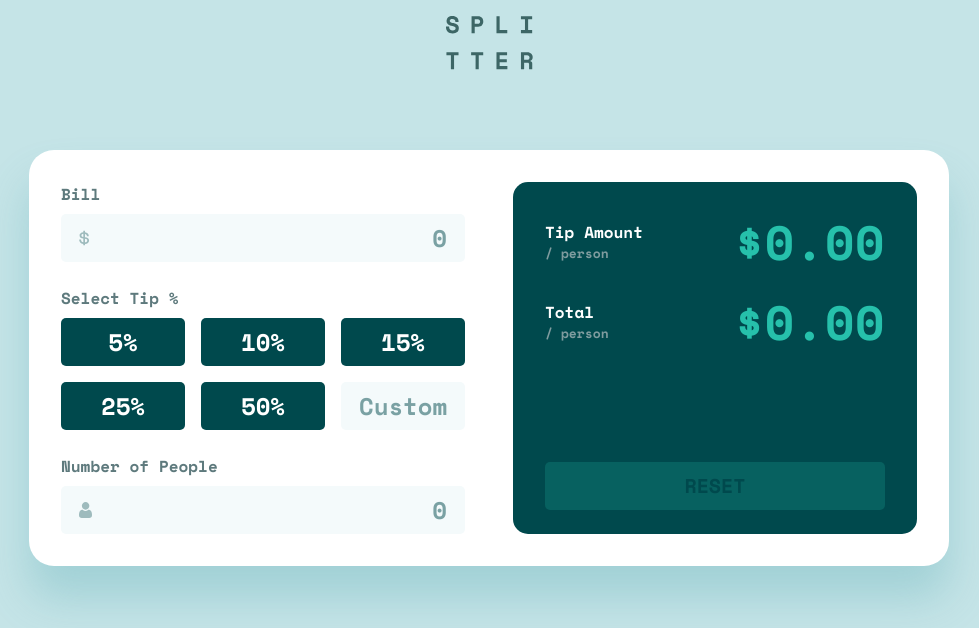
Test case: Tipcalculator component › calculates tip amount and total correctly for standard percentage
This screenshot has width=979, height=628.
Type "142.55" into the number field labelled "Bill".
click(268, 238); type("142.55")  # box [90,220,447,256]
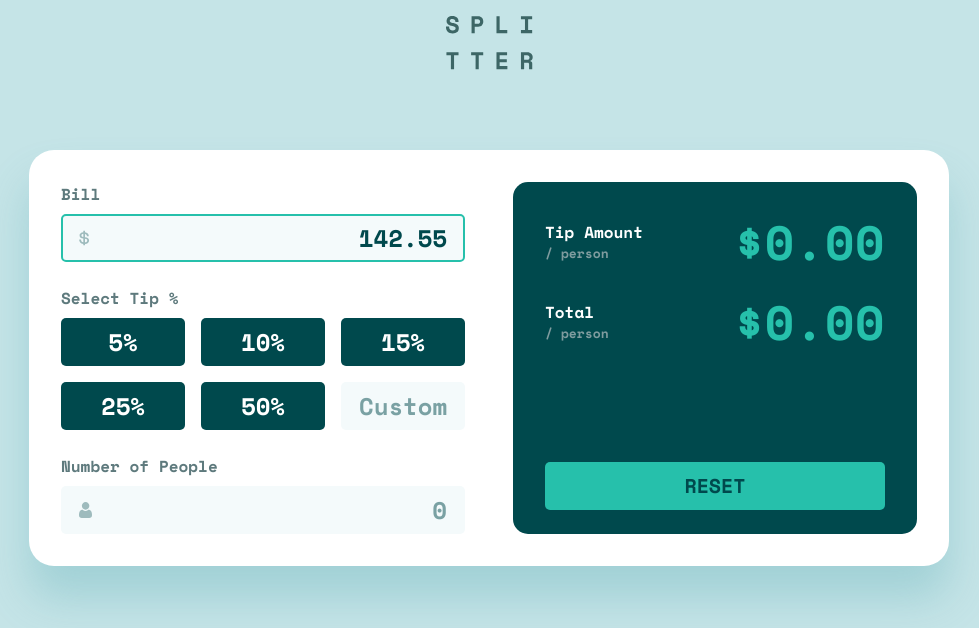
Click the radio button with class "tip-radio".
click(403, 342)  # box [381,324,425,360]
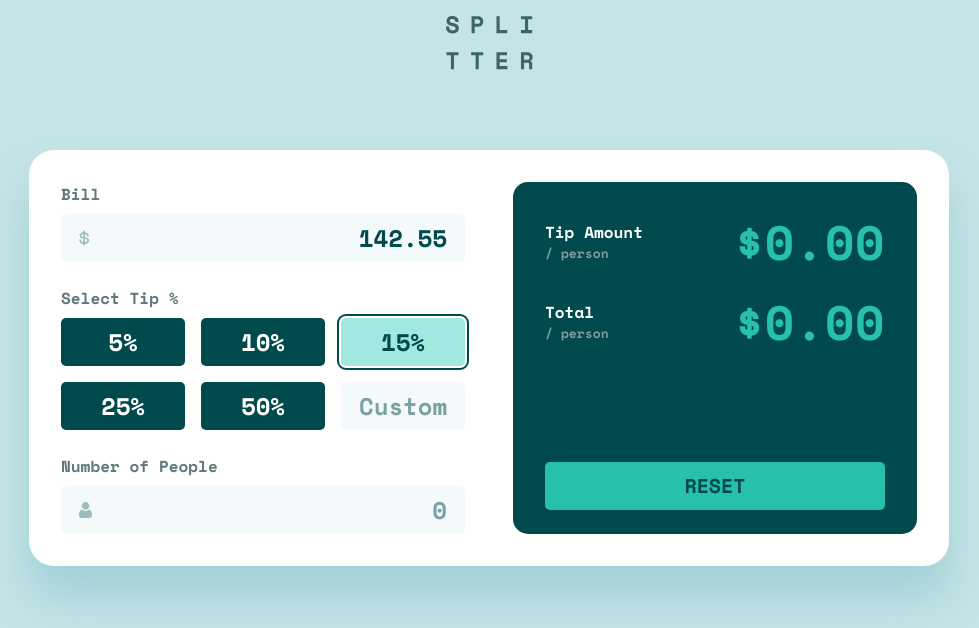
Type "5" into the number field labelled "Number of People".
click(269, 510); type("5")  # box [92,492,447,528]
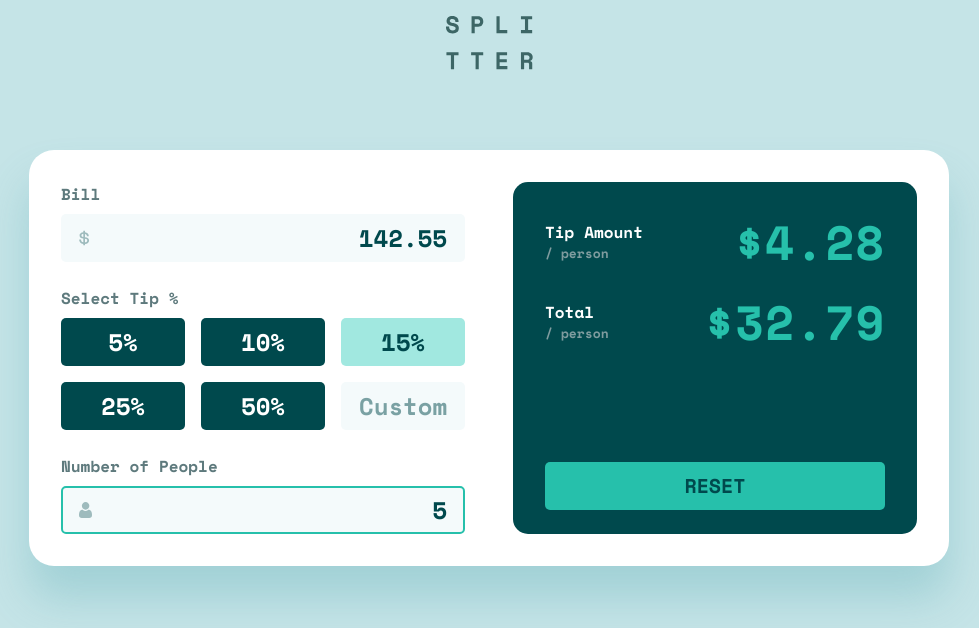
Now the text with id "tip-amount-display" reads "4.28", box [765,206,885,277]
Now the text with id "total-amount-display" reads "32.79", box [735,286,885,357]
